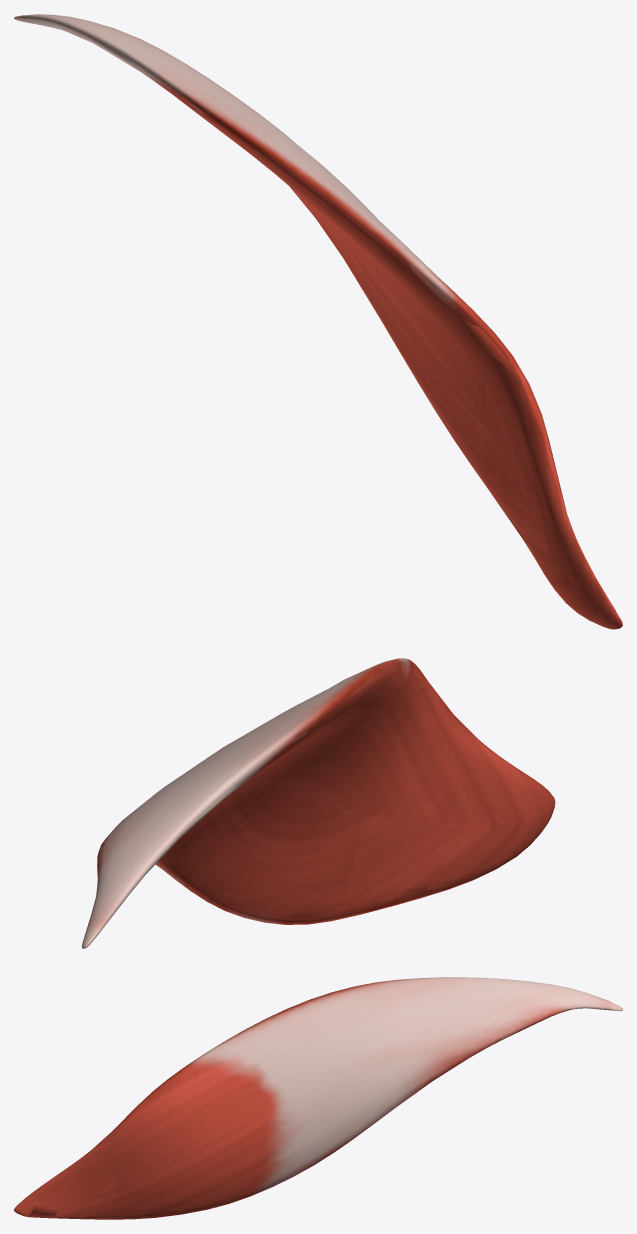
Rendered from L Latissimus Dorsi.fbx.
3 views of the same model, one above another, from view 1: azimuth 30°, elevation 25°; view 2: azimuth 150°, elevation 25°; view 3: azimuth 270°, elevation 25° (orthographic). The views are drawn at different scales.
Parts seen in each view (by area): view 1: L Latissimus Dorsi, L Latissimus Dorsi high, L Latissimus Dorsi low; view 2: L Latissimus Dorsi, L Latissimus Dorsi high, L Latissimus Dorsi low; view 3: L Latissimus Dorsi, L Latissimus Dorsi low, L Latissimus Dorsi high.
Part boxes in pixels (x1,y1,x2,y2): L Latissimus Dorsi: (14,14,622,629); L Latissimus Dorsi high: (15,18,621,626); L Latissimus Dorsi low: (26,22,616,623); L Latissimus Dorsi: (81,658,555,948); L Latissimus Dorsi high: (88,663,553,944); L Latissimus Dorsi low: (96,662,531,917); L Latissimus Dorsi: (14,977,622,1219); L Latissimus Dorsi low: (20,979,617,1219); L Latissimus Dorsi high: (18,979,613,1218).
Bounding box in the file's own units: 10.44 × 21.43 × 56.7.
1 material, 1 textured.
